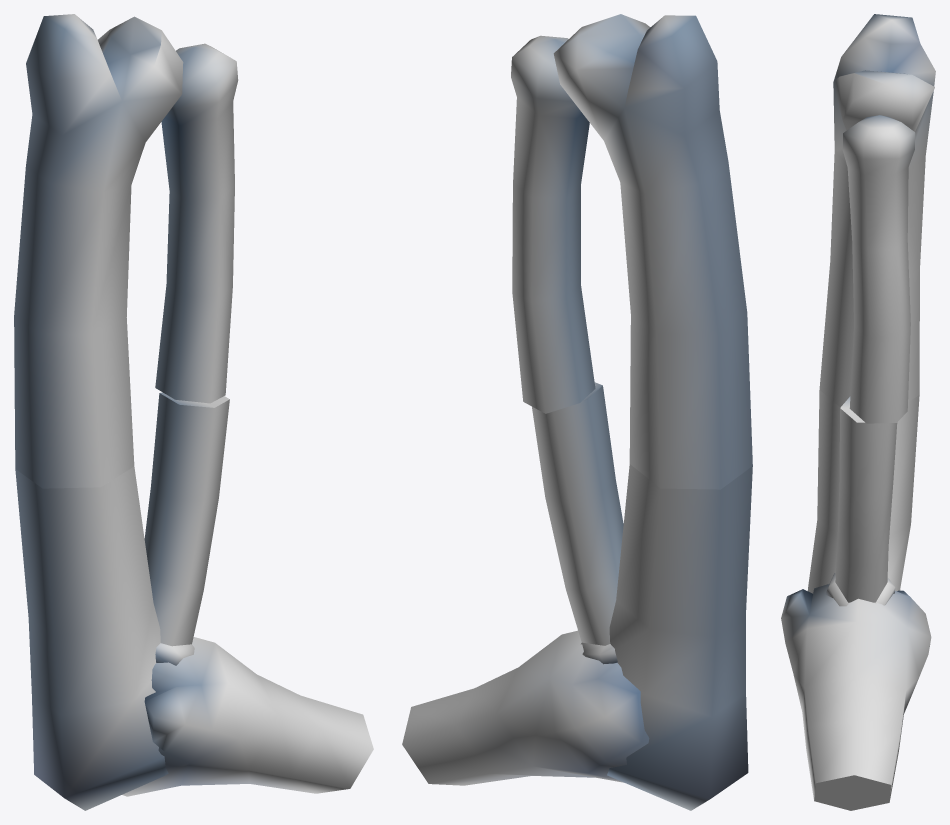
The model's file is LegPieces.gltf.
The picture shows the model from 3 angles, left to right: view 1: azimuth 30°, elevation 25°; view 2: azimuth 150°, elevation 25°; view 3: azimuth 270°, elevation 25°; orthographic projection. The views are drawn at different scales.
Parts seen in each view (by area): view 1: LegPiece5, LegPiece2, LegPiece1, LegPiece4, LegPiece3; view 2: LegPiece5, LegPiece2, LegPiece1, LegPiece4, LegPiece3; view 3: LegPiece1, LegPiece5, LegPiece4, LegPiece3, LegPiece2.
Boxes of the visible parts, x1,y1,x2,y2 form: LegPiece5: (14, 14, 183, 488); LegPiece2: (15, 466, 168, 810); LegPiece1: (122, 637, 373, 796); LegPiece4: (155, 43, 238, 403); LegPiece3: (144, 392, 229, 665); LegPiece5: (553, 14, 752, 489); LegPiece2: (607, 464, 752, 810); LegPiece1: (402, 630, 649, 785); LegPiece4: (511, 35, 595, 413); LegPiece3: (532, 382, 623, 664); LegPiece1: (781, 584, 931, 810); LegPiece5: (819, 14, 935, 407); LegPiece4: (842, 115, 915, 423); LegPiece3: (825, 396, 897, 606); LegPiece2: (807, 390, 919, 593).
Size of the model in its own units: 1.49 by 3.57 by 0.7157.
